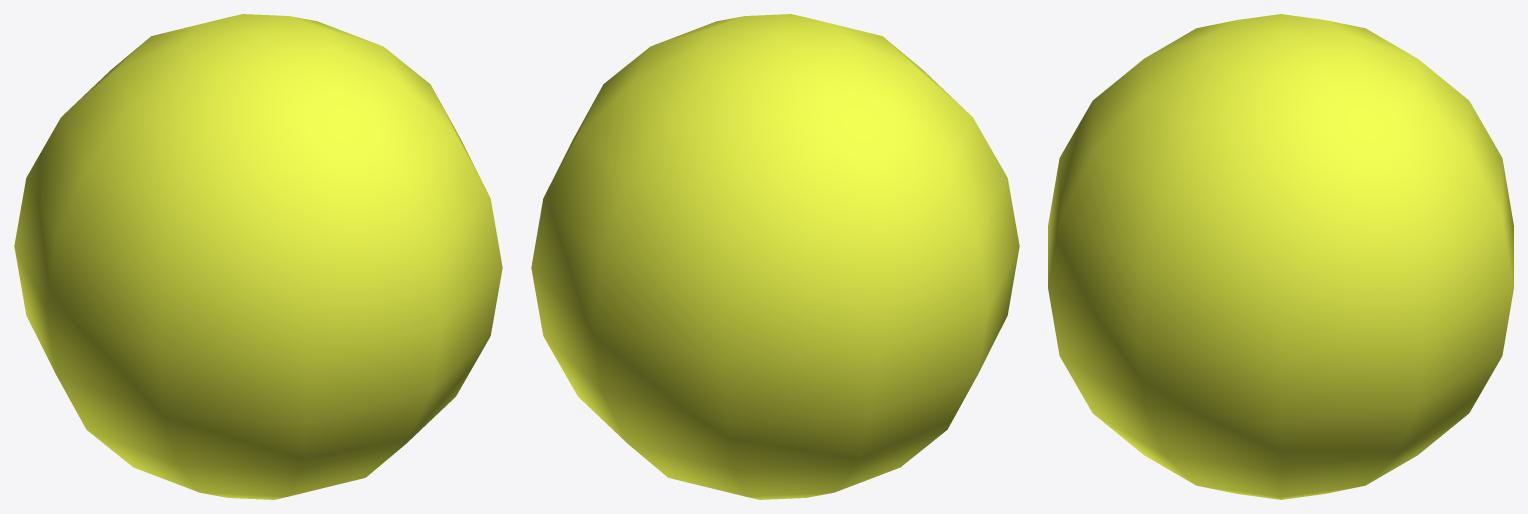
The model's file is ball.obj.
3 renders of one model, left to right at view 1: azimuth 30°, elevation 25°; view 2: azimuth 150°, elevation 25°; view 3: azimuth 270°, elevation 25°, orthographic.
Visible parts, largest first — view 1: sphere8; view 2: sphere8; view 3: sphere8.
Part boxes in pixels (left/top/right/bottom): sphere8: left=14, top=14, right=502, bottom=499; sphere8: left=531, top=14, right=1019, bottom=499; sphere8: left=1048, top=14, right=1513, bottom=499.
Size of the model in its own units: 6.69 by 6.69 by 6.36.
